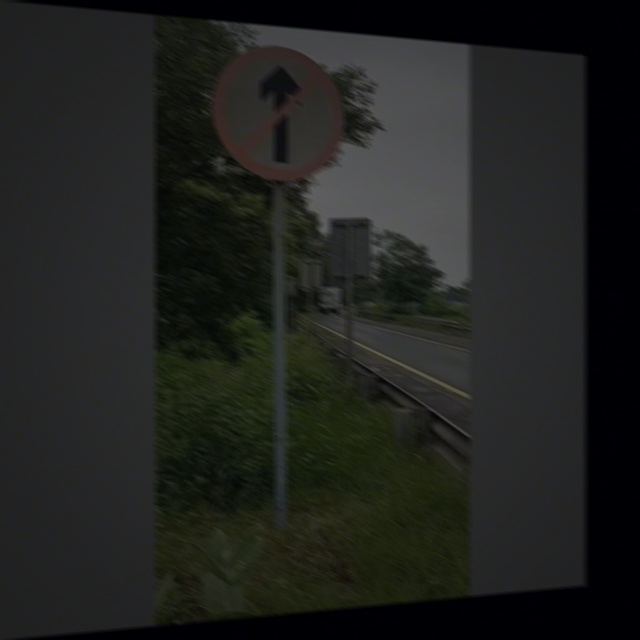No_Entry: (211, 42, 346, 181)
